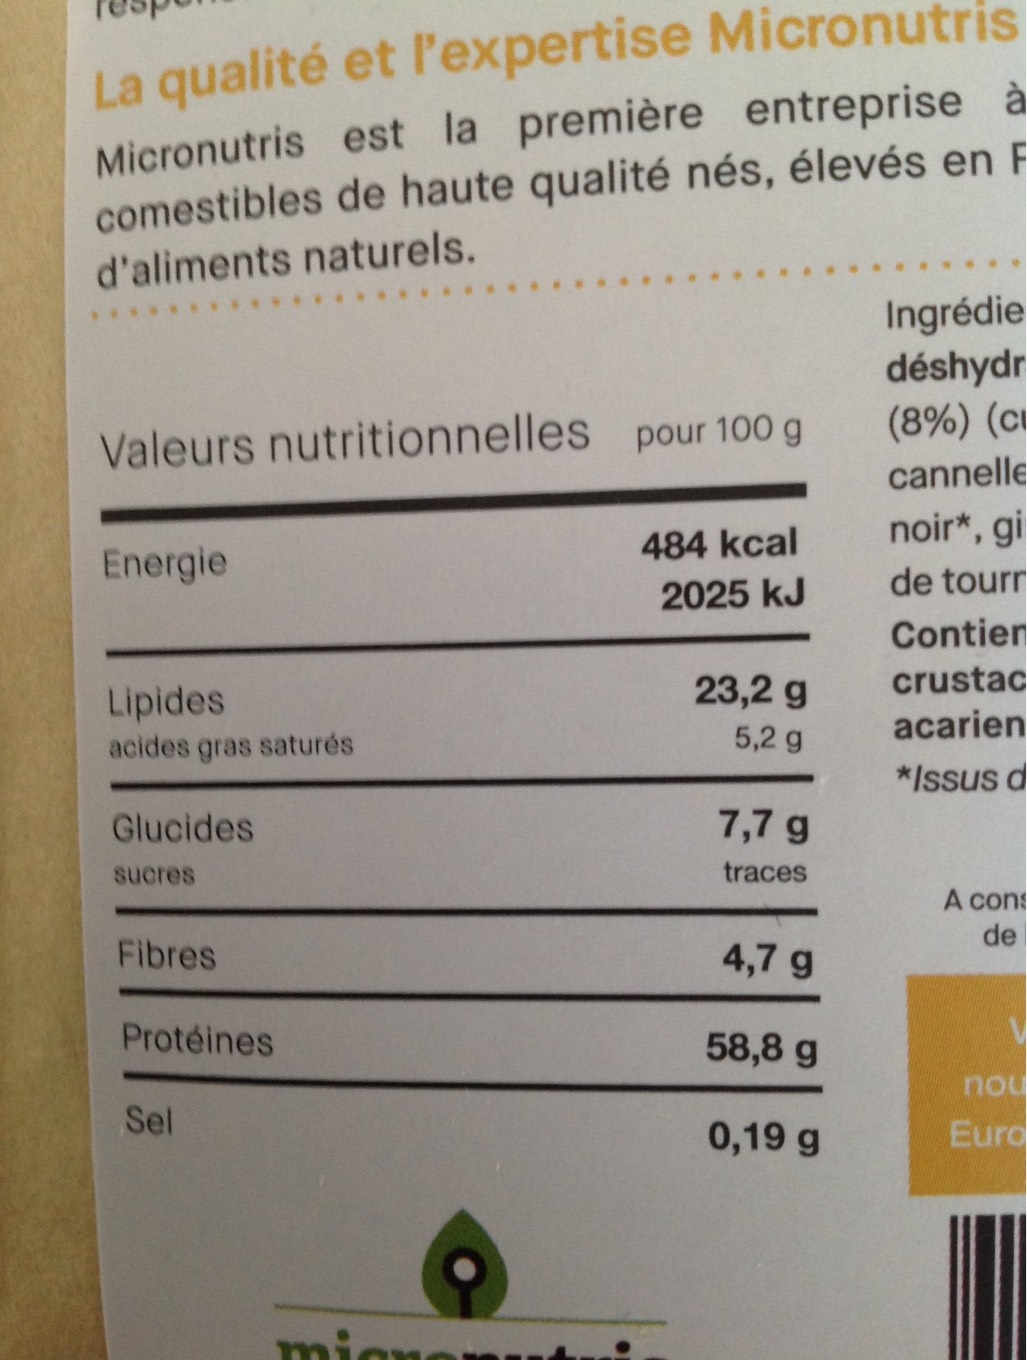column: (102, 531, 369, 1145), (642, 512, 817, 1156)
table: (96, 404, 833, 1174)
